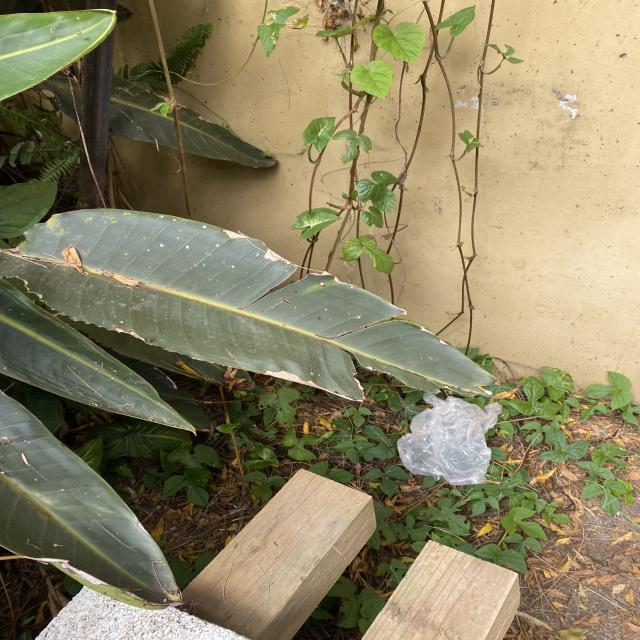cloth: (398, 396, 501, 494)
